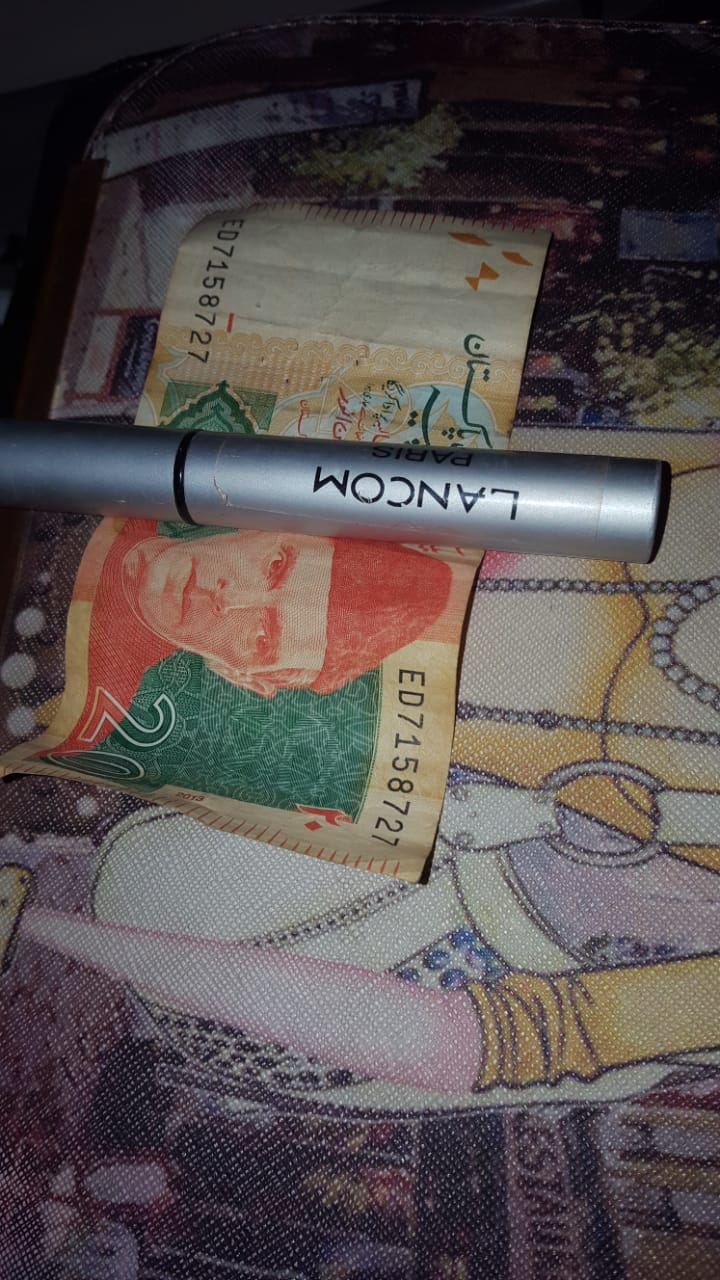20 rupee: (25, 177, 589, 885)
